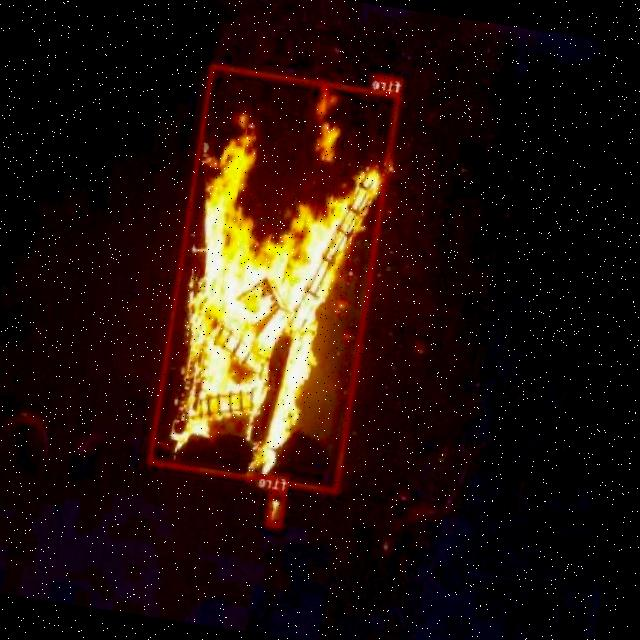fire: (148, 64, 402, 494), (266, 489, 288, 528)
